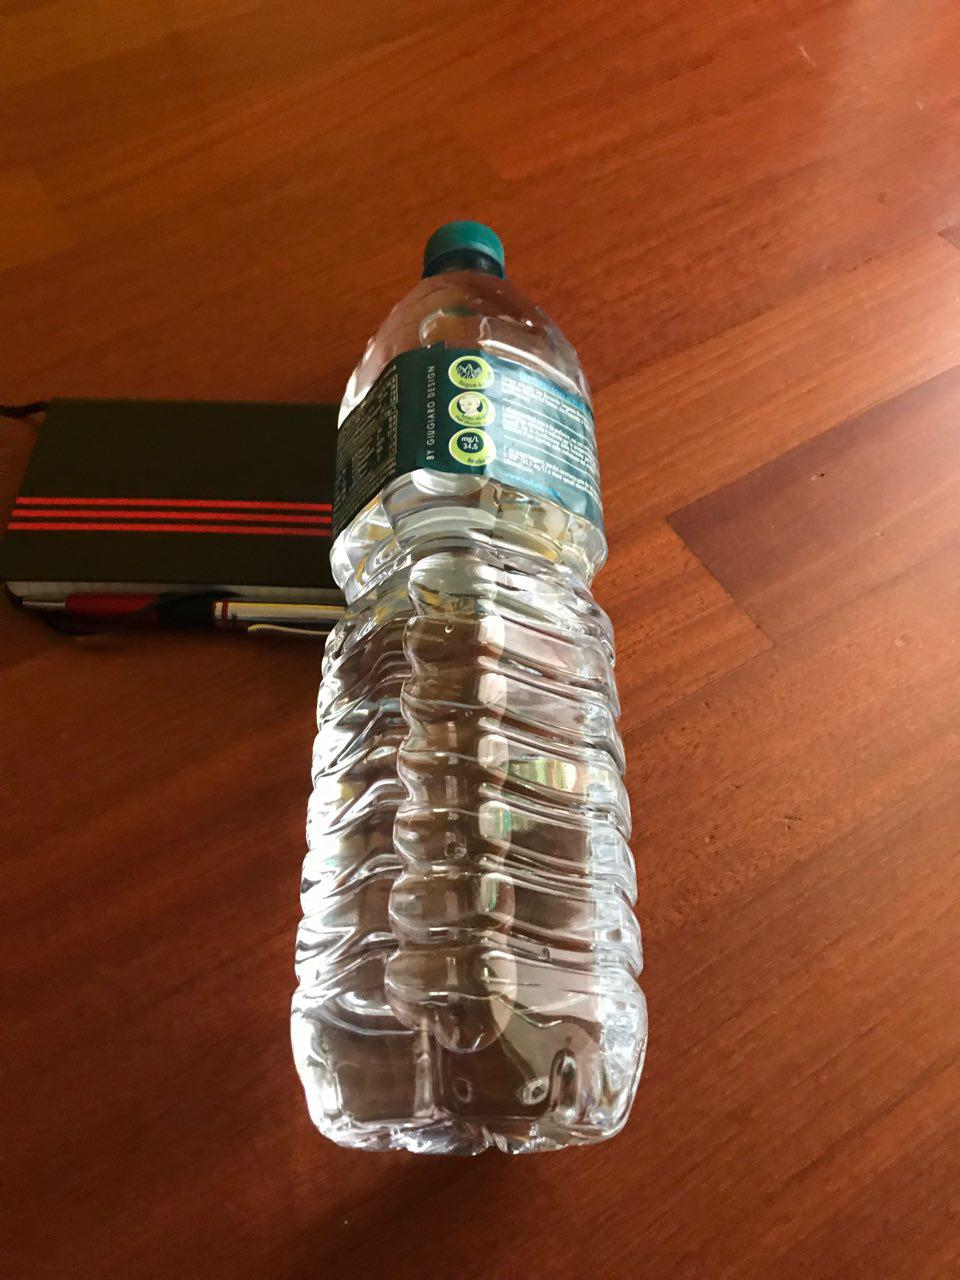san_bernardo: (285, 219, 653, 1160)
